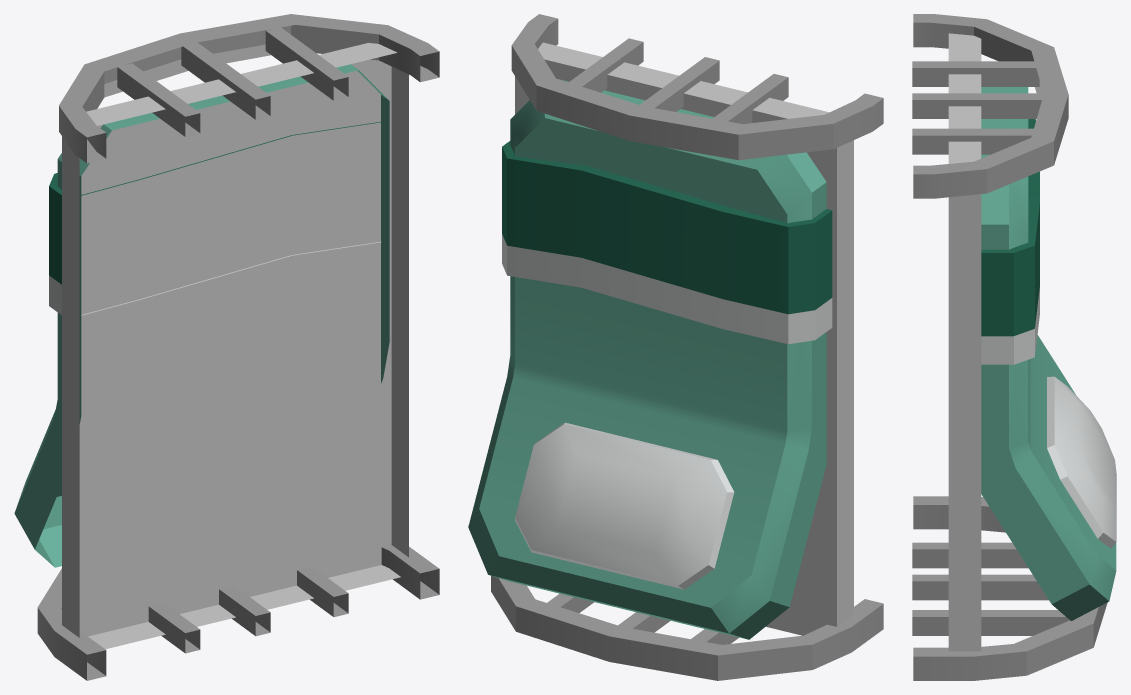
Rendered from Bed 01.FBX.
3 views of the same model, side by side, from view 1: azimuth 30°, elevation 25°; view 2: azimuth 150°, elevation 25°; view 3: azimuth 270°, elevation 25° (orthographic). The views are drawn at different scales.
Parts seen in each view (by area): view 1: Bed 01; view 2: Bed 01; view 3: Bed 01.
Boxes of the visible parts, box(x1,y1,x2,y2) form: Bed 01: box(14, 14, 439, 680); Bed 01: box(468, 14, 883, 680); Bed 01: box(912, 14, 1116, 680).
Bounding box in the file's own units: 216 × 319 × 116.
1 material, 1 textured.
